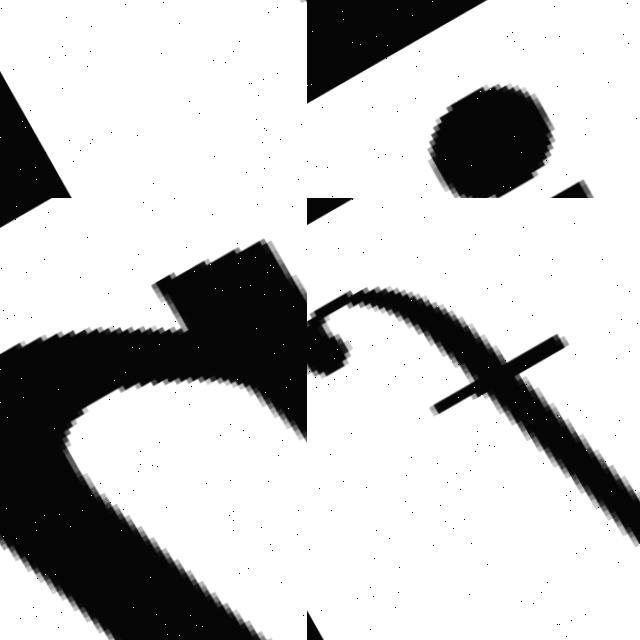F: (307, 198, 640, 640)
I: (20, 0, 307, 194)
J: (397, 26, 640, 198)
N: (0, 198, 307, 640)
